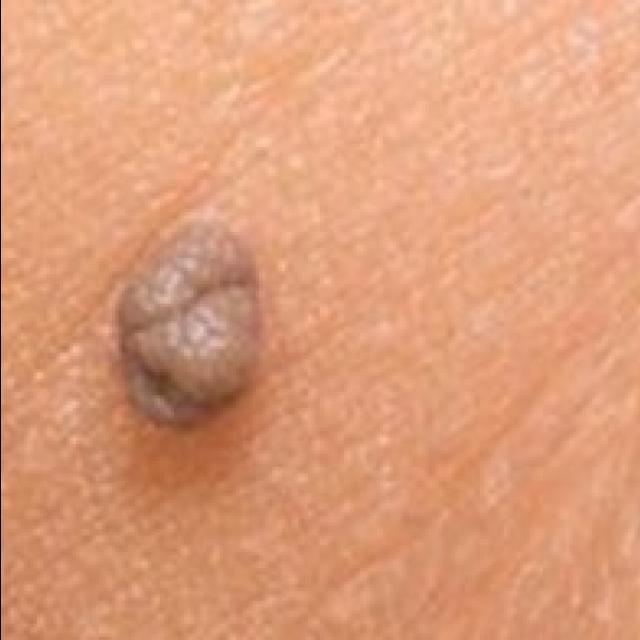wart: (114, 212, 270, 440)
